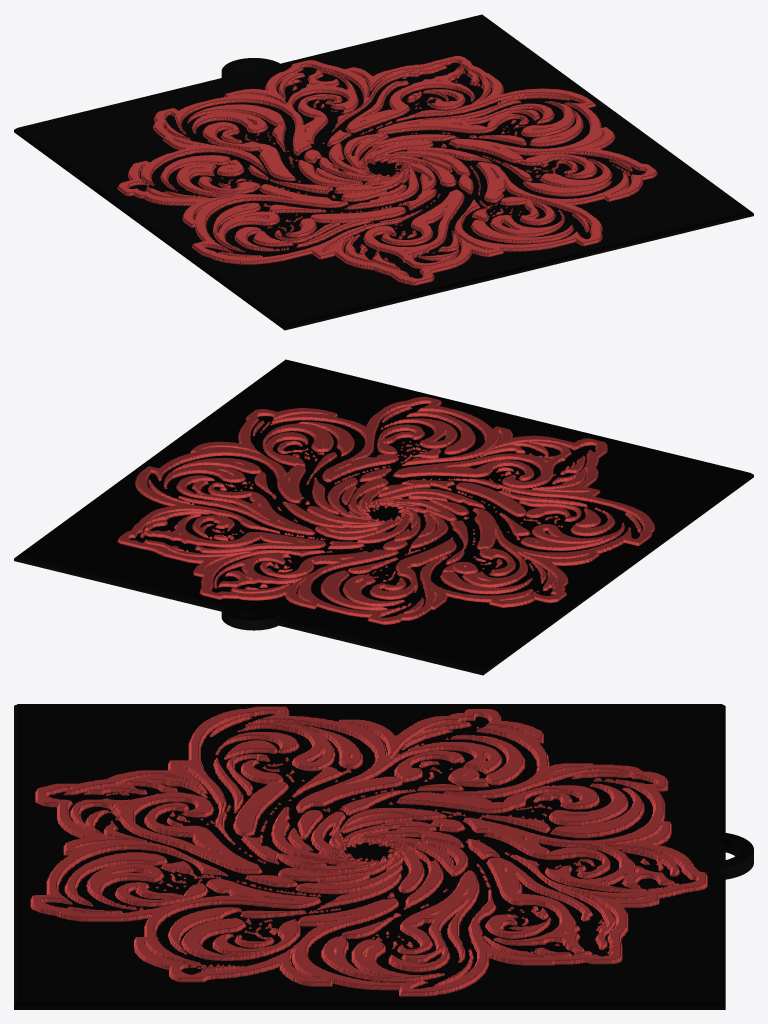
3 renders of one model, top to bottom at view 1: azimuth 30°, elevation 25°; view 2: azimuth 150°, elevation 25°; view 3: azimuth 270°, elevation 25°, orthographic. The views are drawn at different scales.
Visible parts, largest first — view 1: Node2, Node1, Node3; view 2: Node2, Node1, Node3; view 3: Node2, Node1, Node3.
Boxes of the visible parts, x1,y1,x2,y2 form: Node2: [14, 14, 753, 330]; Node1: [117, 56, 657, 285]; Node3: [221, 58, 281, 80]; Node2: [14, 359, 753, 675]; Node1: [117, 396, 654, 624]; Node3: [221, 600, 281, 630]; Node2: [14, 704, 725, 1009]; Node1: [30, 706, 707, 996]; Node3: [711, 831, 753, 879].
Size of the model in its own units: 100 by 2.08 by 104.
